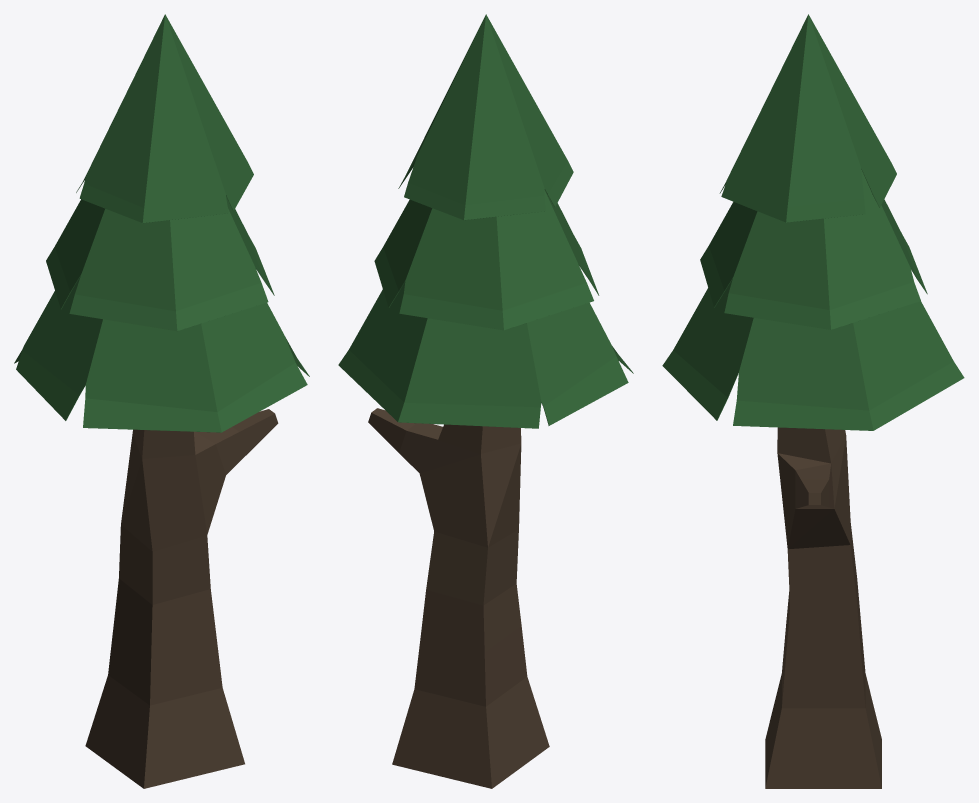
File: PineTree3.fbx
The picture shows the model from 3 angles, left to right: view 1: azimuth 30°, elevation 25°; view 2: azimuth 150°, elevation 25°; view 3: azimuth 270°, elevation 25°; orthographic projection.
Visible parts, largest first — view 1: PineTree3Foliage, PineTree3; view 2: PineTree3Foliage, PineTree3; view 3: PineTree3Foliage, PineTree3.
Part boxes in pixels (x1,y1,x2,y2): PineTree3Foliage: [14, 14, 309, 432]; PineTree3: [85, 409, 278, 788]; PineTree3Foliage: [338, 14, 633, 428]; PineTree3: [368, 408, 549, 788]; PineTree3Foliage: [662, 14, 964, 430]; PineTree3: [765, 427, 881, 788].
Size of the model in its own units: 3.72 by 11.12 by 4.08.
